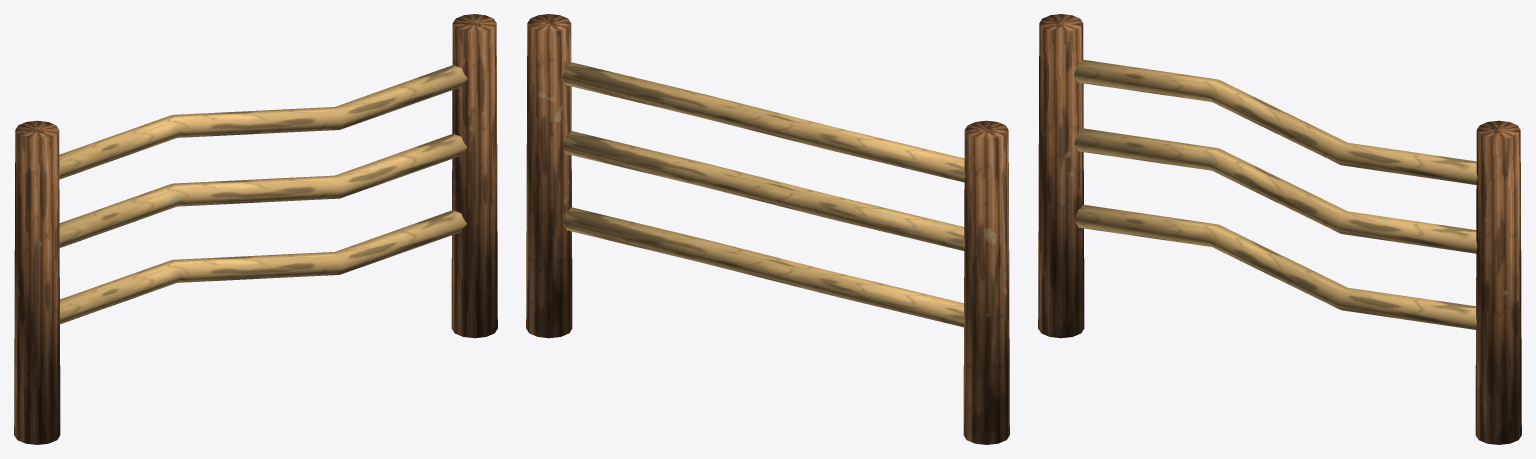
The model's file is fence.glb.
3 views of the same model, side by side, from view 1: azimuth 30°, elevation 25°; view 2: azimuth 150°, elevation 25°; view 3: azimuth 330°, elevation 25° (orthographic).
Visible parts, largest first — view 1: Fence; view 2: Fence; view 3: Fence.
Boxes of the visible parts, box(x1,y1,x2,y2) form: Fence: box(14, 14, 497, 444); Fence: box(526, 14, 1009, 444); Fence: box(1038, 14, 1521, 444).
Bounding box in the file's own units: 1.31 × 0.8 × 0.1359.
Materials: 1 (1 with a texture image).
